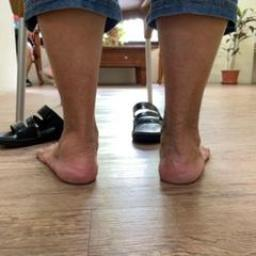Back View -Both Feet-: (27, 84, 226, 206)
